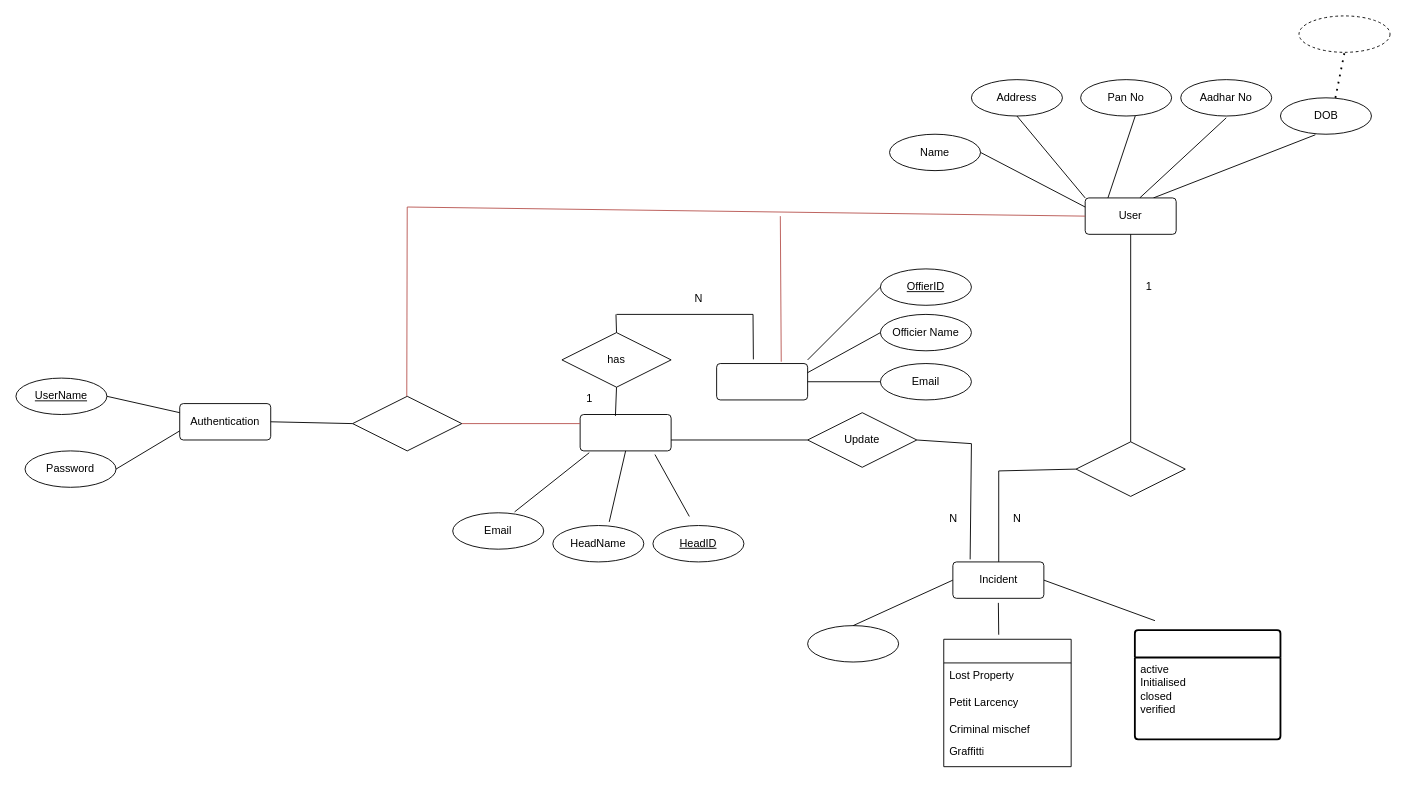
Some shapes in this 1406 by 785 pixel diagram are drawn without their labels. Each missing label, with the box of its shape:
Add: (1075, 441, 1185, 496)
Age: (1298, 15, 1390, 52)
Authorize: (352, 395, 462, 451)
Incident Id: (807, 625, 899, 662)
Incident Status: (1133, 629, 1281, 740)
Incident Type Class: (943, 638, 1071, 767)
officier: (716, 363, 808, 400)
Station Head: (579, 414, 671, 451)
